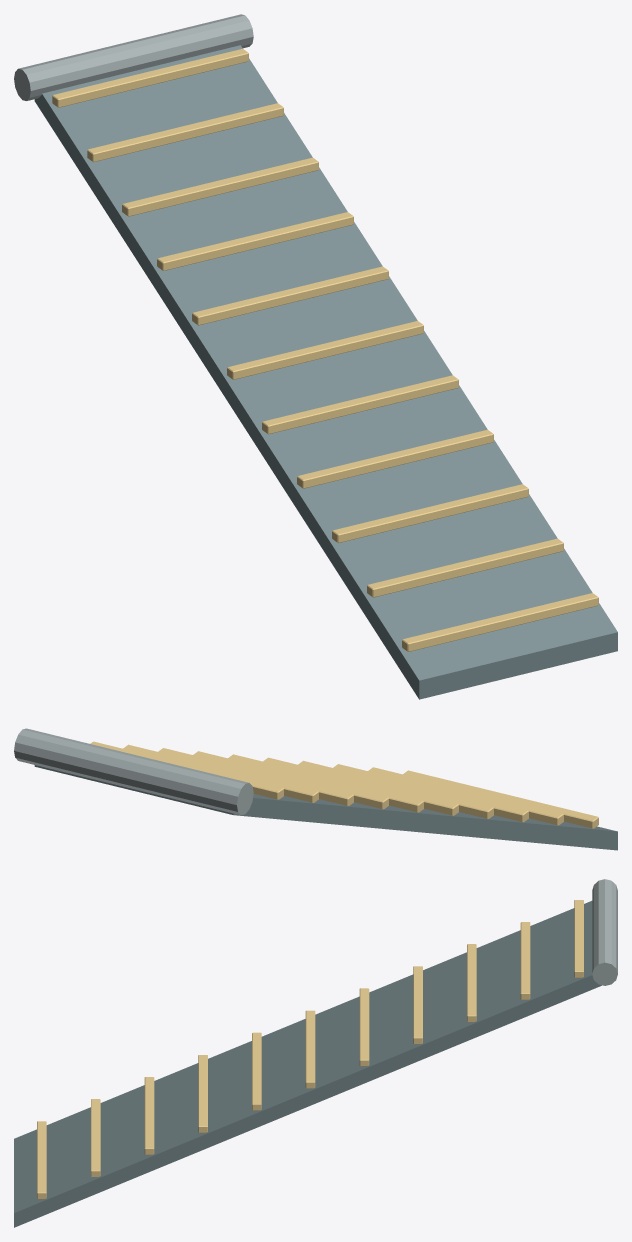
File: ramp.glb
The picture shows the model from 3 angles, top to bottom: view 1: azimuth 30°, elevation 25°; view 2: azimuth 150°, elevation 25°; view 3: azimuth 270°, elevation 25°; orthographic projection. The views are drawn at different scales.
Parts seen in each view (by area): view 1: ramp; view 2: ramp; view 3: ramp.
Boxes of the visible parts, box(x1,y1,x2,y2) form: ramp: box(14, 14, 617, 699); ramp: box(14, 728, 617, 850); ramp: box(14, 879, 617, 1227).
Size of the model in its own units: 0.92 by 1.39 by 2.81.
